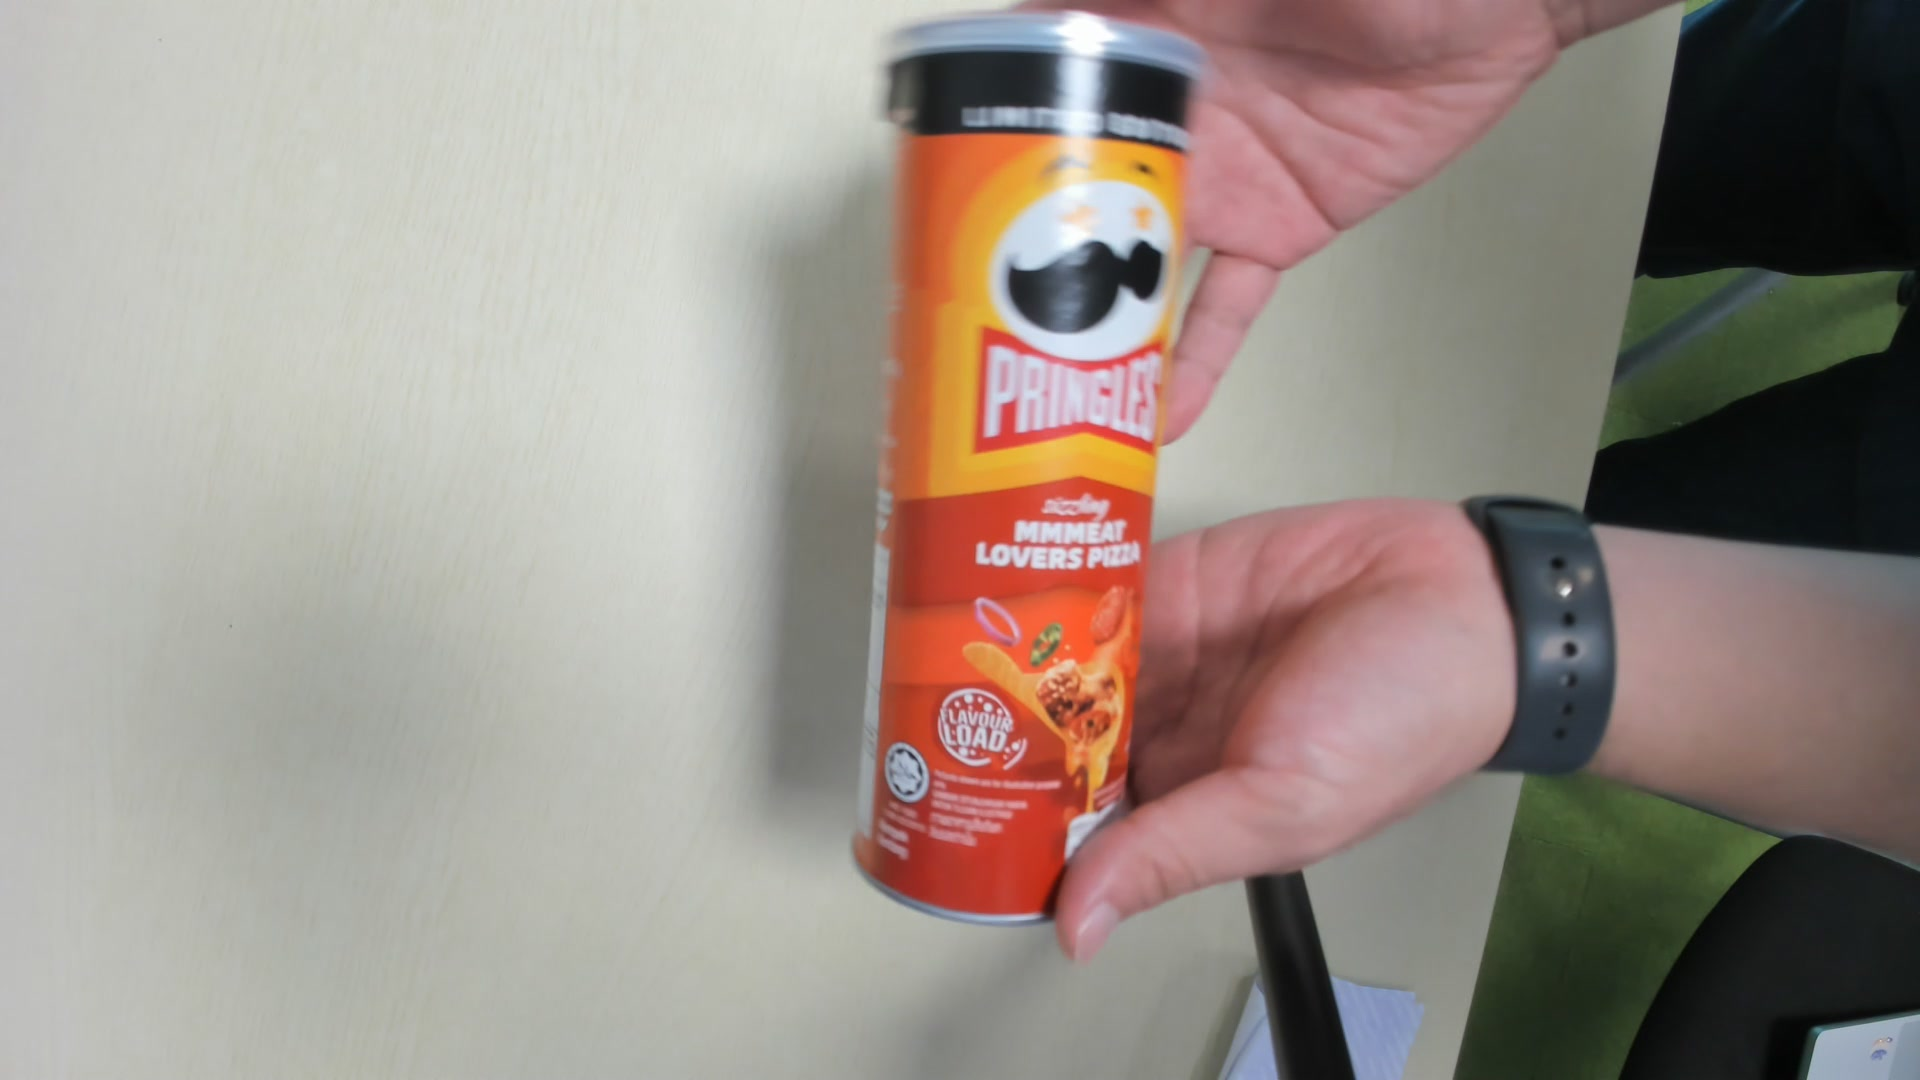PotatoChipsKeropok_0-99g_Halal_NonHealthy: (857, 18, 1211, 934)
